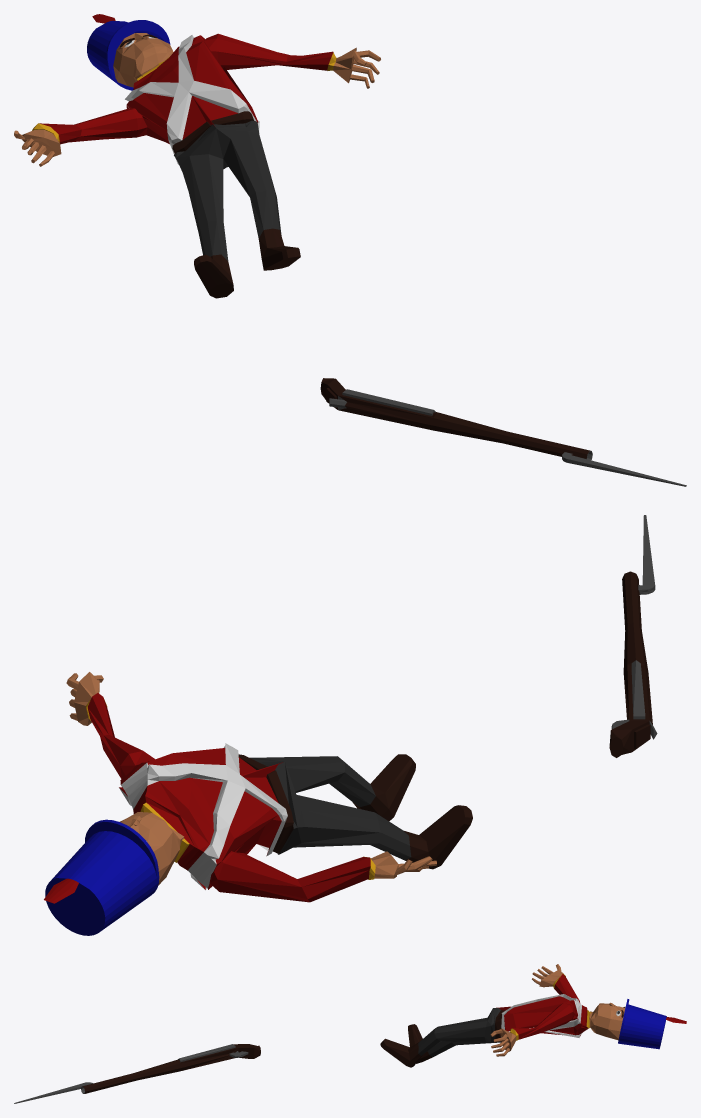
Rendered from Infantry_000091.obj.
3 renders of one model, top to bottom at view 1: azimuth 30°, elevation 25°; view 2: azimuth 150°, elevation 25°; view 3: azimuth 270°, elevation 25°, orthographic. The views are drawn at different scales.
Visible parts, largest first — view 1: {Man}_Circle, {Mesket}_Cube.001; view 2: {Man}_Circle, {Mesket}_Cube.001; view 3: {Man}_Circle, {Mesket}_Cube.001.
Part boxes in pixels (x1,y1,x2,y2): {Man}_Circle: (14,14,380,298); {Mesket}_Cube.001: (320,378,686,486); {Man}_Circle: (44,672,472,935); {Mesket}_Cube.001: (609,515,657,757); {Man}_Circle: (380,964,686,1067); {Mesket}_Cube.001: (14,1044,260,1103).
Bounding box in the file's own units: 12.94 × 5.98 × 37.01.
